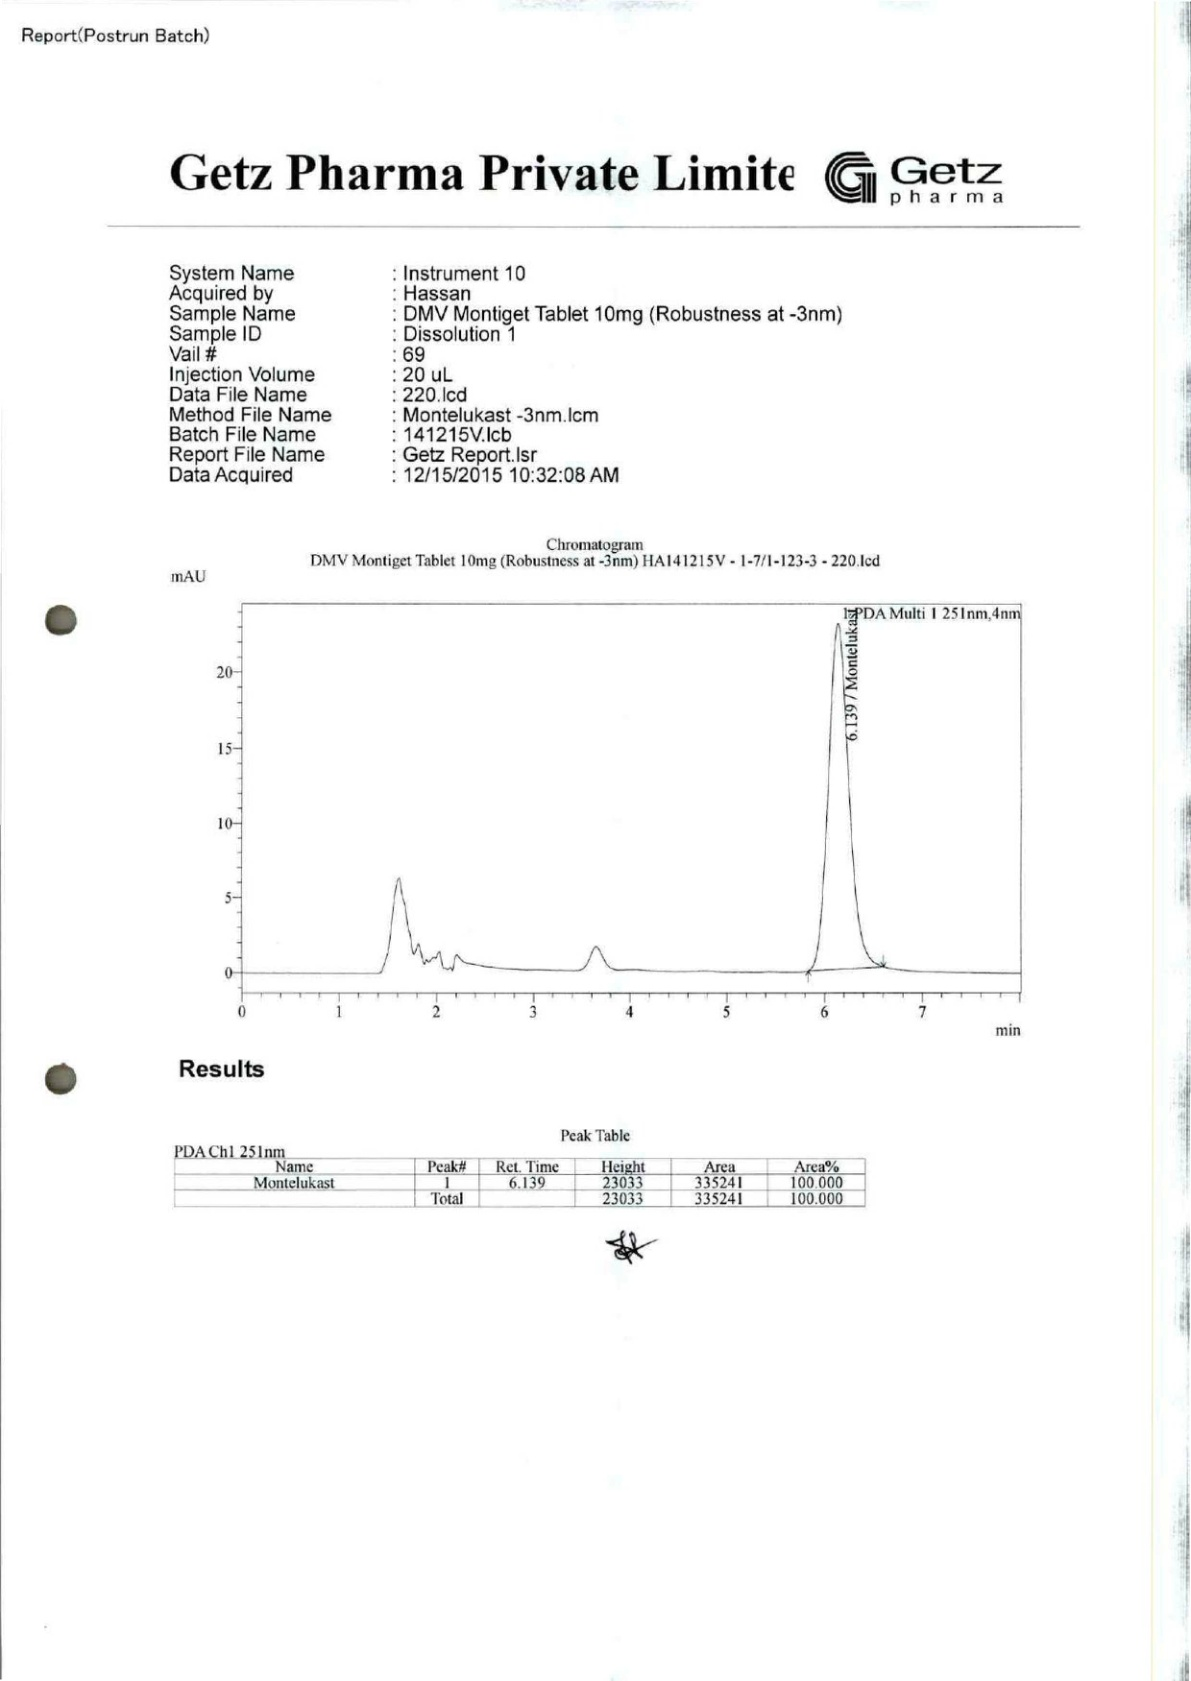full_lined: (170, 1154, 873, 1214)
nolines: (159, 254, 852, 501)
